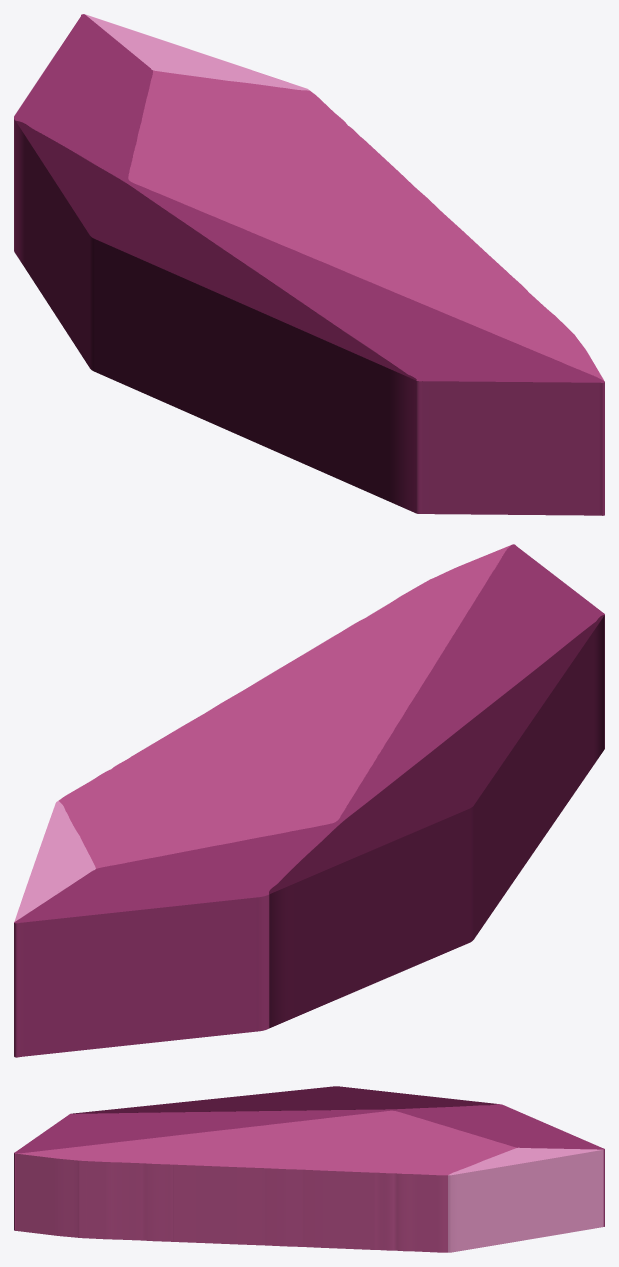
File: shard.glb
The picture shows the model from 3 angles, top to bottom: view 1: azimuth 30°, elevation 25°; view 2: azimuth 150°, elevation 25°; view 3: azimuth 270°, elevation 25°; orthographic projection. The views are drawn at different scales.
Visible parts, largest first — view 1: Curve.002, Curve.001, Curve, Curve.003; view 2: Curve.001, Curve.002, Curve, Curve.003; view 3: Curve, Curve.003, Curve.001, Curve.002.
Boxes of the visible parts, x1=… form: Curve.002: x1=15, y1=120, x2=416, y2=513; Curve.001: x1=14, y1=14, x2=604, y2=515; Curve: x1=128, y1=70, x2=604, y2=381; Curve.003: x1=85, y1=14, x2=309, y2=90; Curve.001: x1=14, y1=544, x2=604, y2=1057; Curve.002: x1=269, y1=615, x2=604, y2=1028; Curve: x1=58, y1=545, x2=510, y2=868; Curve.003: x1=14, y1=801, x2=95, y2=921; Curve: x1=15, y1=1110, x2=517, y2=1252; Curve.003: x1=448, y1=1147, x2=603, y2=1252; Curve.001: x1=14, y1=1104, x2=604, y2=1230; Curve.002: x1=71, y1=1086, x2=496, y2=1114.
Size of the model in its own units: 0.0495 by 0.02 by 0.1386.
